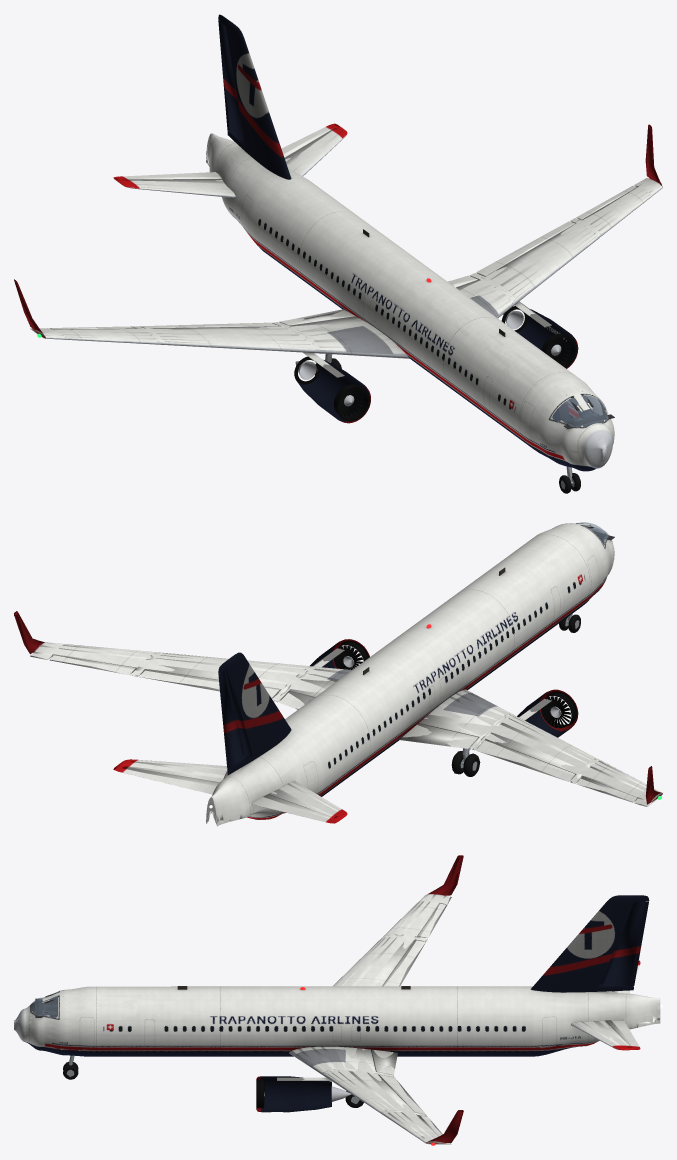
The picture shows the model from 3 angles, top to bottom: view 1: azimuth 30°, elevation 25°; view 2: azimuth 150°, elevation 25°; view 3: azimuth 270°, elevation 25°; orthographic projection. The views are drawn at different scales.
Parts seen in each view (by area): view 1: Skin_LOD2_mesh, Fuselage_LOD1_mesh, Wing_R_LOD0_mesh, Wing_L_LOD0_mesh, Fin_LOD0_mesh, HStab_LOD0_mesh, Fuselage_LOD0_mesh, Engine_R_LOD0_mesh, Glass_LOD1_mesh, Engine_L_LOD0_mesh, Cockpit_LOD0_mesh; view 2: Skin_LOD2_mesh, Fuselage_LOD1_mesh, Wing_R_LOD0_mesh, Wing_L_LOD0_mesh, Fin_LOD0_mesh, HStab_LOD0_mesh, Flap_Out_R_LOD0_mesh, Fuselage_LOD0_mesh, Flap_Out_L_LOD0_mesh, Elevator_L_LOD0_mesh, Fan_R_LOD0_mesh, Elevator_R_LOD0_mesh (+3 smaller); view 3: Skin_LOD2_mesh, Fuselage_LOD1_mesh, Fin_LOD0_mesh, Wing_L_LOD0_mesh, Wing_R_LOD0_mesh, Engine_L_LOD0_mesh, Fuselage_LOD0_mesh, HStab_LOD0_mesh, Rudder_LOD0_mesh, Flap_Out_R_LOD0_mesh.
Part boxes in pixels (x1=…): Skin_LOD2_mesh: x1=14, y1=14, x2=662, y2=471; Fuselage_LOD1_mesh: x1=206, y1=133, x2=614, y2=471; Wing_R_LOD0_mesh: x1=31, y1=318, x2=410, y2=358; Wing_L_LOD0_mesh: x1=460, y1=178, x2=662, y2=317; Fin_LOD0_mesh: x1=218, y1=15, x2=291, y2=179; HStab_LOD0_mesh: x1=114, y1=124, x2=346, y2=197; Fuselage_LOD0_mesh: x1=207, y1=140, x2=613, y2=469; Engine_R_LOD0_mesh: x1=298, y1=361, x2=370, y2=422; Glass_LOD1_mesh: x1=553, y1=396, x2=607, y2=427; Engine_L_LOD0_mesh: x1=519, y1=310, x2=577, y2=368; Cockpit_LOD0_mesh: x1=557, y1=391, x2=606, y2=427; Skin_LOD2_mesh: x1=14, y1=522, x2=662, y2=823; Fuselage_LOD1_mesh: x1=206, y1=523, x2=614, y2=826; Wing_R_LOD0_mesh: x1=418, y1=689, x2=662, y2=805; Wing_L_LOD0_mesh: x1=31, y1=642, x2=351, y2=701; Fin_LOD0_mesh: x1=218, y1=652, x2=291, y2=774; HStab_LOD0_mesh: x1=114, y1=759, x2=346, y2=823; Flap_Out_R_LOD0_mesh: x1=476, y1=740, x2=575, y2=781; Fuselage_LOD0_mesh: x1=206, y1=523, x2=612, y2=825; Flap_Out_L_LOD0_mesh: x1=139, y1=670, x2=279, y2=698; Elevator_L_LOD0_mesh: x1=118, y1=768, x2=216, y2=794; Fan_R_LOD0_mesh: x1=541, y1=696, x2=570, y2=727; Elevator_R_LOD0_mesh: x1=252, y1=797, x2=332, y2=822; Skin_LOD2_mesh: x1=14, y1=855, x2=660, y2=1144; Fuselage_LOD1_mesh: x1=14, y1=986, x2=660, y2=1056; Fin_LOD0_mesh: x1=531, y1=895, x2=648, y2=992; Wing_L_LOD0_mesh: x1=289, y1=1046, x2=450, y2=1144; Wing_R_LOD0_mesh: x1=333, y1=894, x2=449, y2=986; Engine_L_LOD0_mesh: x1=256, y1=1076, x2=331, y2=1111; Fuselage_LOD0_mesh: x1=14, y1=989, x2=660, y2=1053; HStab_LOD0_mesh: x1=571, y1=961, x2=640, y2=1050; Rudder_LOD0_mesh: x1=600, y1=901, x2=648, y2=987; Flap_Out_R_LOD0_mesh: x1=384, y1=940, x2=425, y2=986.
Bounding box in the file's own units: 35.07 × 11.71 × 37.75.
Materials: 21 (1 with a texture image).
